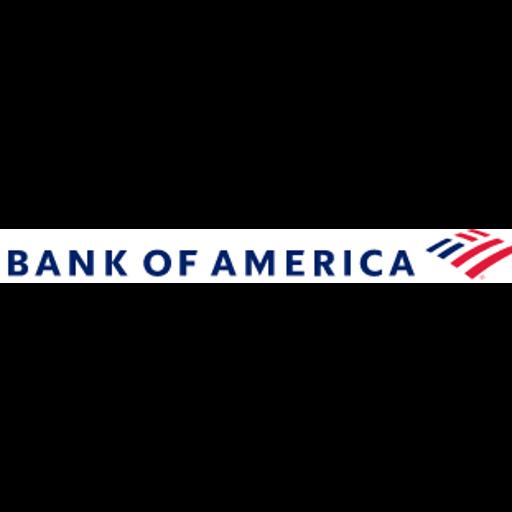Bank of America: (0, 229, 512, 283)
